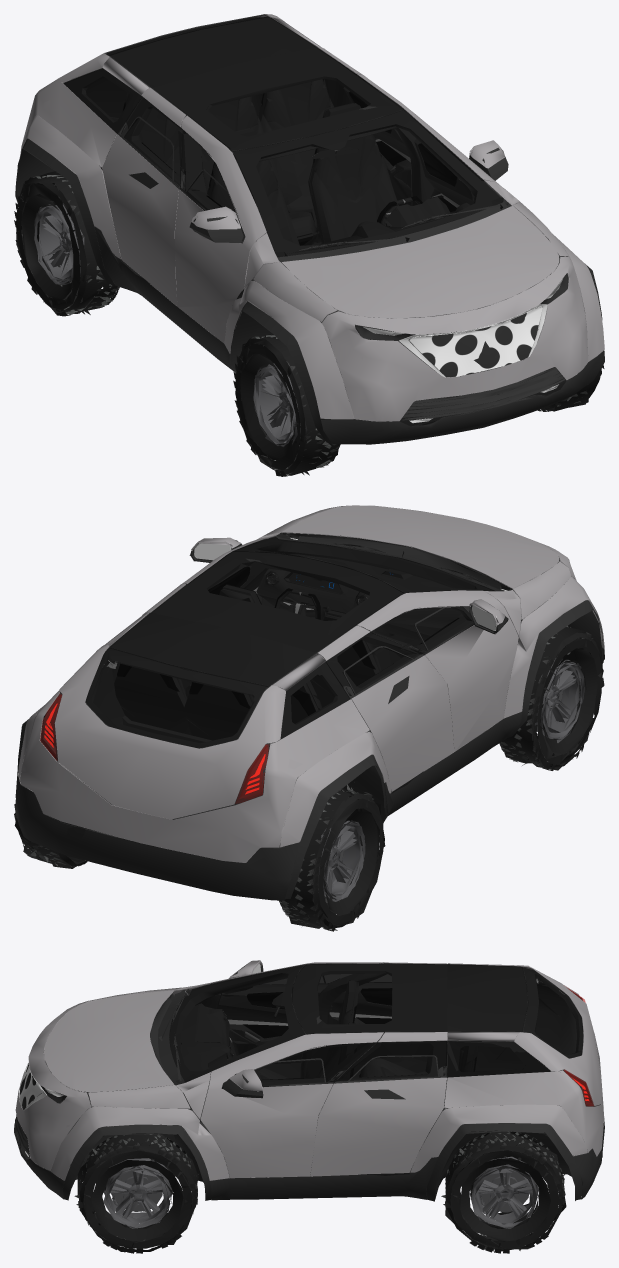
File: traffic-suv.glb
The picture shows the model from 3 angles, top to bottom: view 1: azimuth 30°, elevation 25°; view 2: azimuth 150°, elevation 25°; view 3: azimuth 270°, elevation 25°; orthographic projection. The views are drawn at different scales.
Visible parts, largest first — view 1: Body, wheel-rear-right-mesh, wheel-front-right-mesh, wheel-front-left-mesh; view 2: Body, wheel-rear-right-mesh, wheel-front-right-mesh, wheel-rear-left-mesh; view 3: Body, wheel-rear-left-mesh, wheel-front-left-mesh.
Boxes of the visible parts, x1,y1,x2,y2 form: Body: (15,14,604,444); wheel-rear-right-mesh: (14,171,119,316); wheel-front-right-mesh: (233,334,340,476); wheel-front-left-mesh: (538,364,604,411); Body: (15,505,604,900); wheel-rear-right-mesh: (279,784,385,931); wheel-front-right-mesh: (499,626,604,770); wheel-rear-left-mesh: (14,794,87,868); Body: (14,960,604,1201); wheel-rear-left-mesh: (441,1131,566,1253); wheel-front-left-mesh: (74,1134,199,1253).
Size of the model in its own units: 1.42 by 1.05 by 2.8.
Materials: 19 (2 with a texture image).
